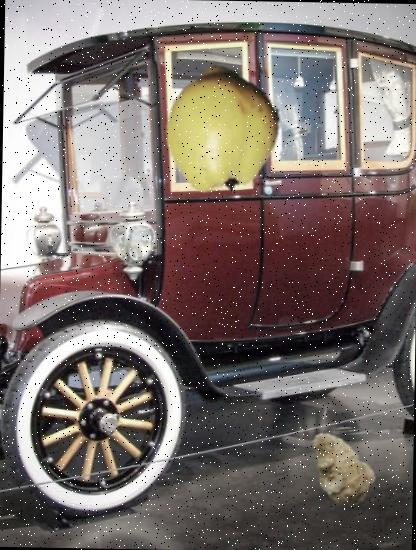Ginger: (300, 427, 382, 509)
Quince: (156, 61, 290, 195)
